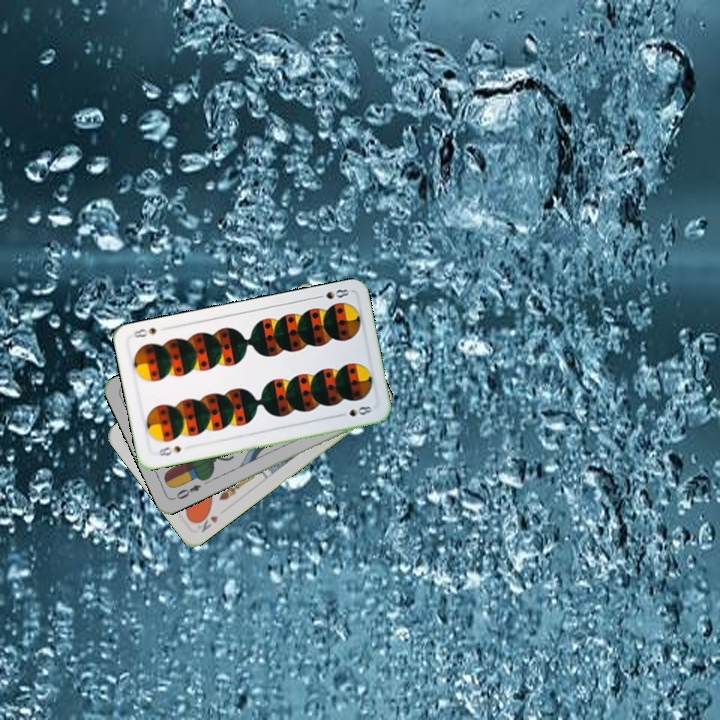EO: (170, 480, 203, 502)
HK: (190, 508, 221, 535)
S8: (312, 285, 351, 302), (155, 442, 183, 459)
